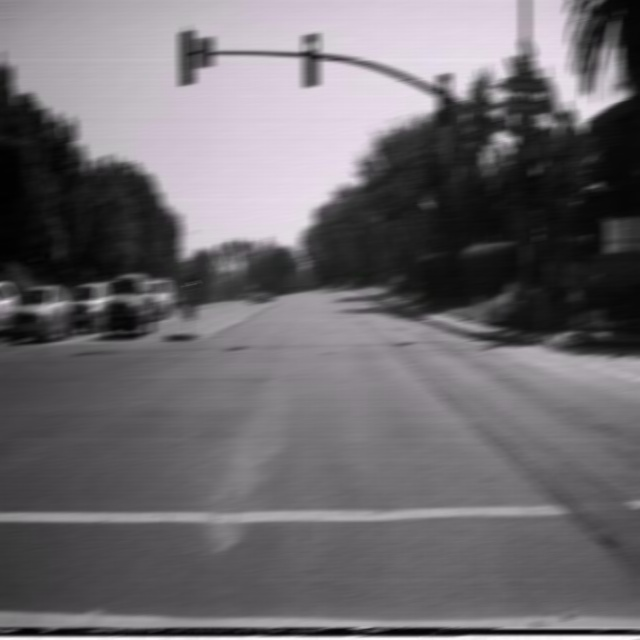keepRight: (183, 271, 197, 305)
